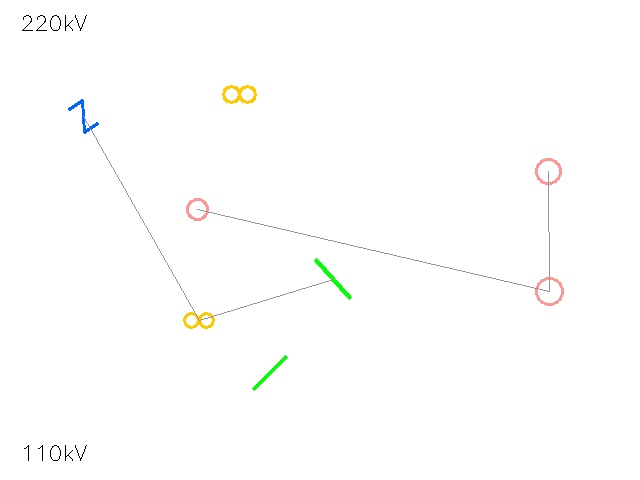busbar: (302, 248, 364, 310), (243, 346, 297, 400)
circuit_breaker: (67, 100, 99, 132)
current_transformer: (176, 188, 218, 230)
feeder_terminal: (524, 147, 572, 195)
fuse: (523, 265, 575, 317)
transformer_2w: (219, 74, 259, 114), (181, 302, 217, 338)
